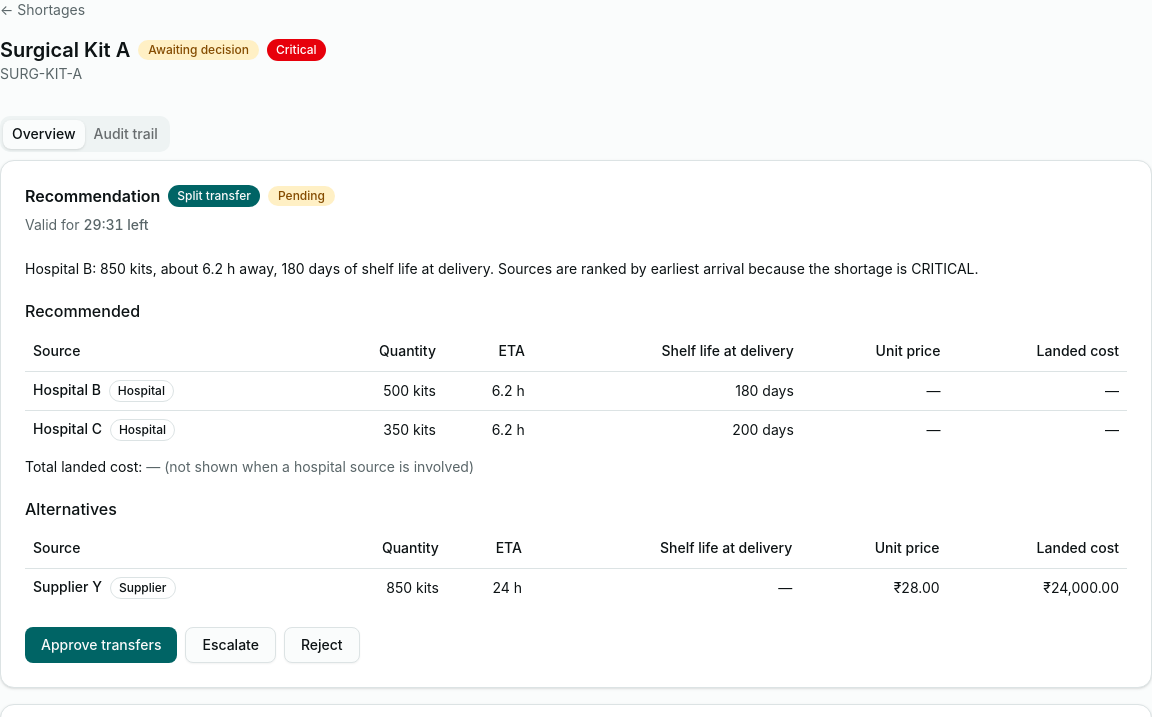
Test: Decision panel › words the TRANSFER_SPLIT button and the post-approval message exactly as business-rules §13
Check: the text with test id "recommendation-type" reads "Split transfer", box left=177, top=188, right=251, bottom=203
Click the button "Approve transfers" at (101, 645), box left=25, top=627, right=178, bottom=663
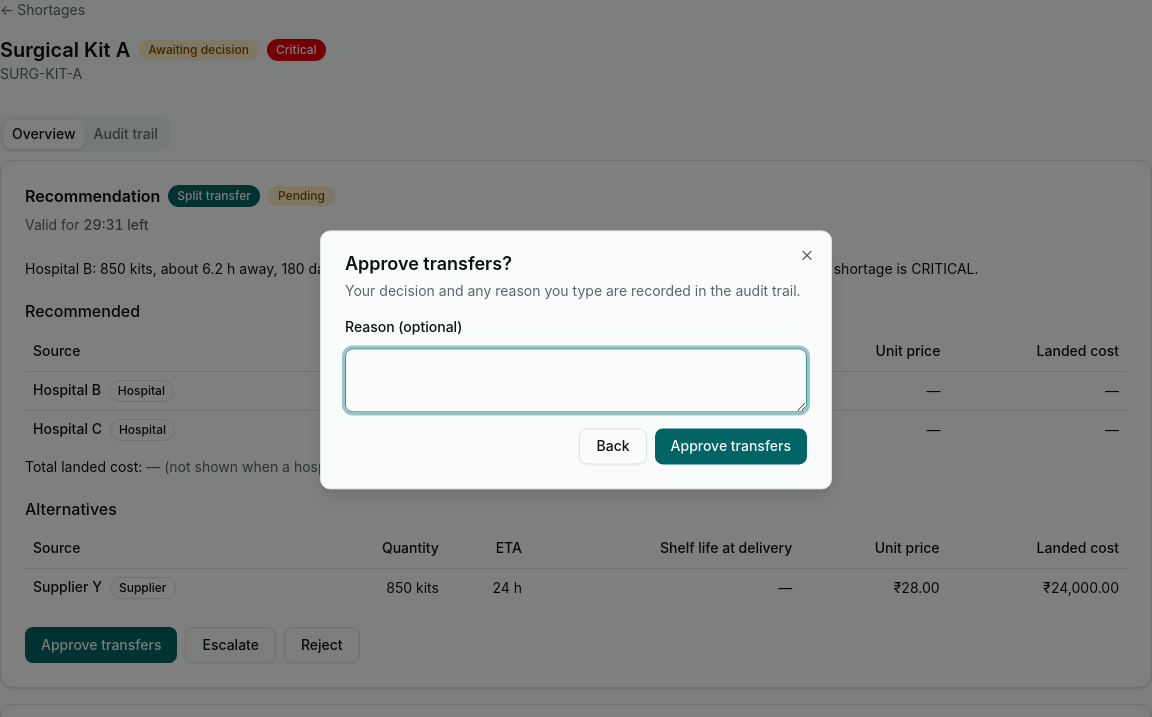
Click the button "Approve transfers" at (731, 447), box left=654, top=429, right=807, bottom=465
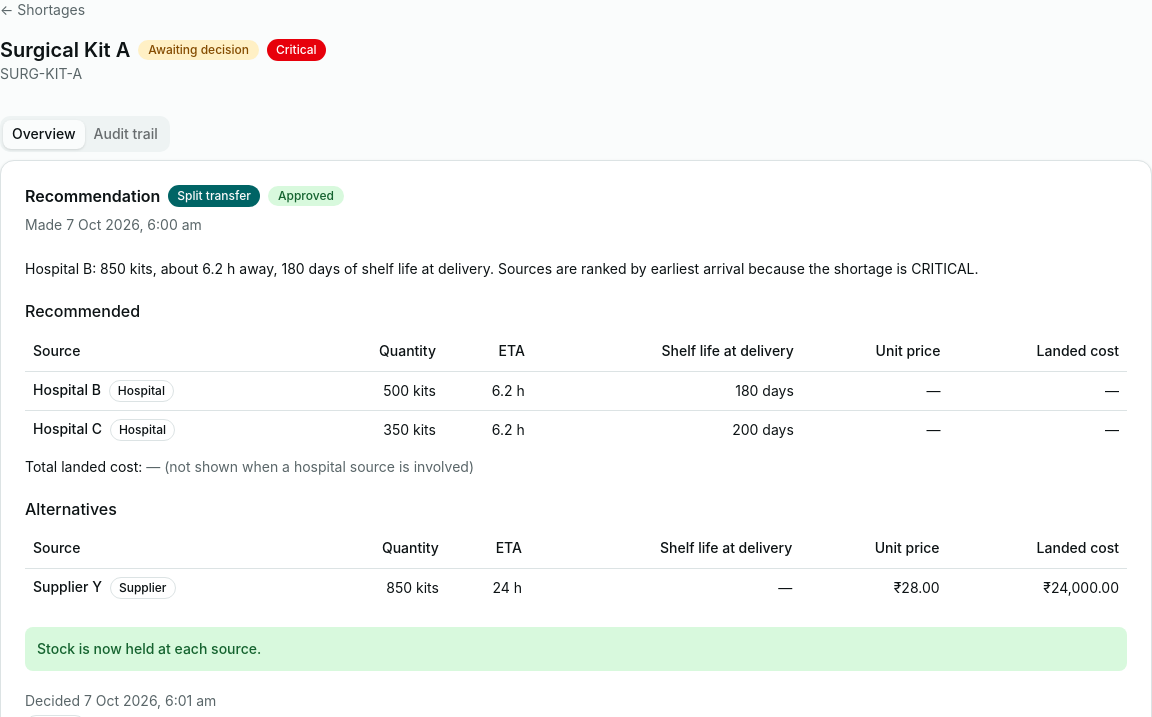
Check: the message with test id "approved-message" reads "Stock is now held at each source.", box left=37, top=640, right=261, bottom=657
Check: the dialog is gone
Check: the button "Approve transfers" is gone
